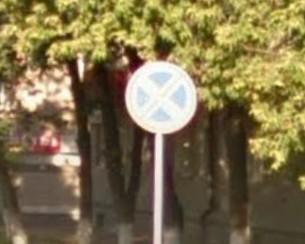No Parking: (127, 62, 198, 135)
